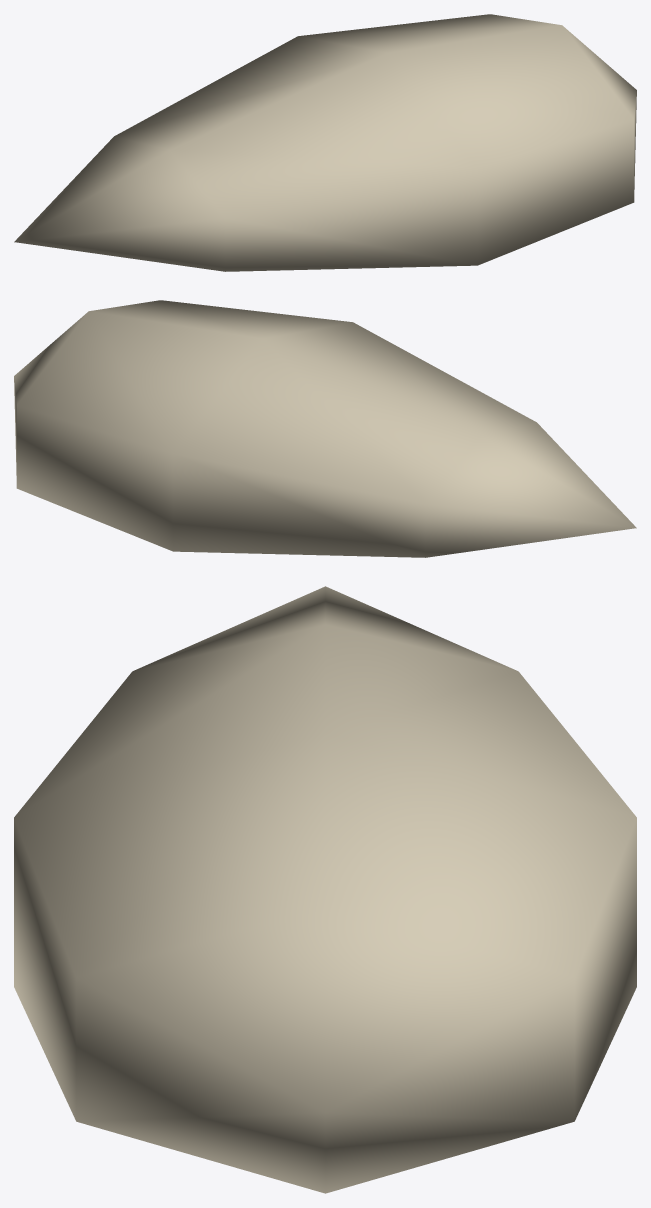
Rendered from sunflower_seed.glb.
3 renders of one model, top to bottom at view 1: azimuth 30°, elevation 25°; view 2: azimuth 150°, elevation 25°; view 3: azimuth 270°, elevation 25°, orthographic. The views are drawn at different scales.
Parts seen in each view (by area): view 1: sunflower_seed; view 2: sunflower_seed; view 3: sunflower_seed.
Boxes of the visible parts, x1=… form: sunflower_seed: x1=14, y1=14, x2=636, y2=271; sunflower_seed: x1=14, y1=300, x2=636, y2=557; sunflower_seed: x1=14, y1=586, x2=636, y2=1193.
Bounding box in the file's own units: 0.01 × 0.003 × 0.005.
